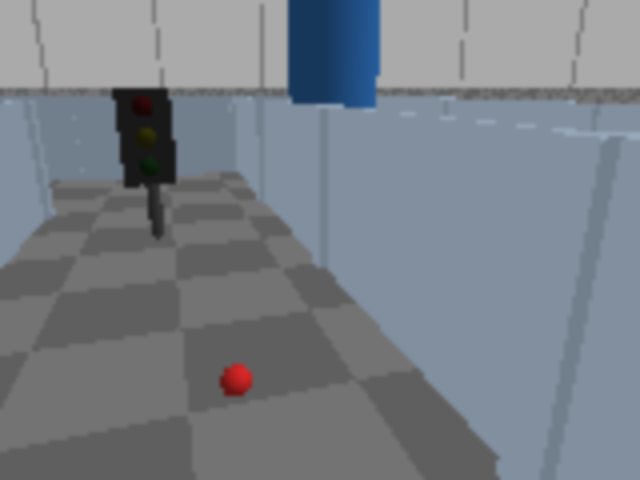puck: (213, 355, 260, 409)
traffic_light: (111, 79, 184, 245)
